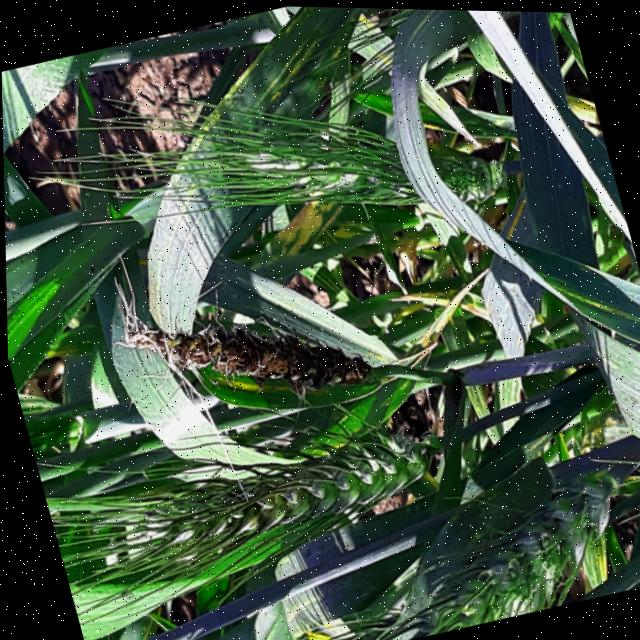loose_charred: (115, 248, 406, 457), (147, 414, 384, 581)
yellow_rust: (182, 3, 399, 173), (119, 112, 233, 237), (196, 355, 305, 440), (394, 269, 489, 342), (262, 192, 352, 269), (383, 217, 460, 291), (340, 6, 399, 81), (559, 81, 605, 151), (281, 601, 343, 640), (36, 324, 87, 367), (492, 189, 535, 238), (419, 97, 464, 141), (570, 530, 607, 581)
